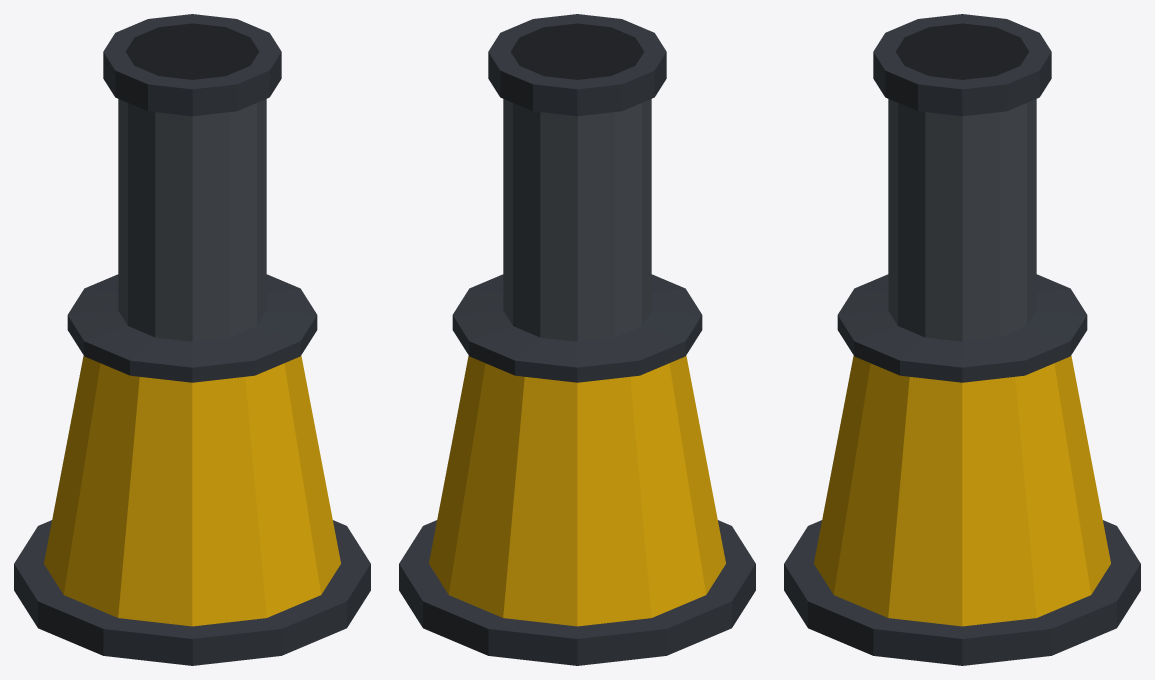
The model's file is Pipe_0.5_0.25_Converter.fbx.
3 renders of one model, left to right at view 1: azimuth 30°, elevation 25°; view 2: azimuth 150°, elevation 25°; view 3: azimuth 270°, elevation 25°, orthographic.
Parts seen in each view (by area): view 1: Pipe_0.5_0.25_Converter; view 2: Pipe_0.5_0.25_Converter; view 3: Pipe_0.5_0.25_Converter.
Part boxes in pixels (x1=…): Pipe_0.5_0.25_Converter: x1=14, y1=14, x2=370, y2=665; Pipe_0.5_0.25_Converter: x1=399, y1=14, x2=755, y2=665; Pipe_0.5_0.25_Converter: x1=784, y1=14, x2=1140, y2=665.
Size of the model in its own units: 60 by 100 by 60.
